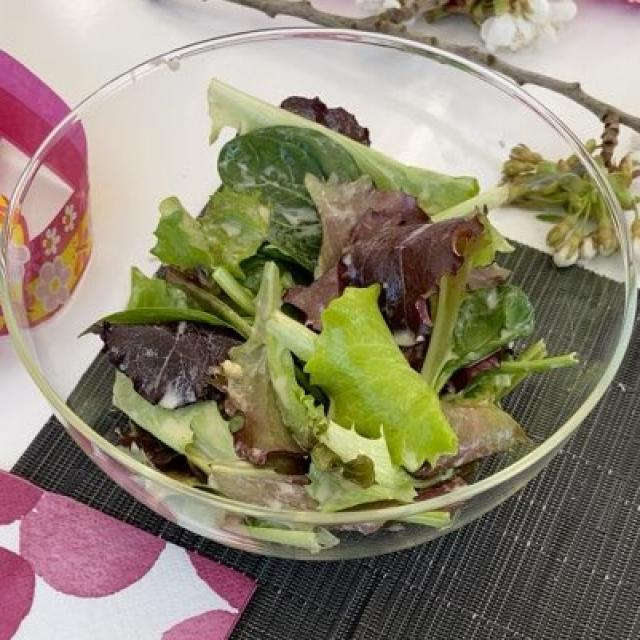salad-leaf-salad-green: (93, 84, 567, 486)
